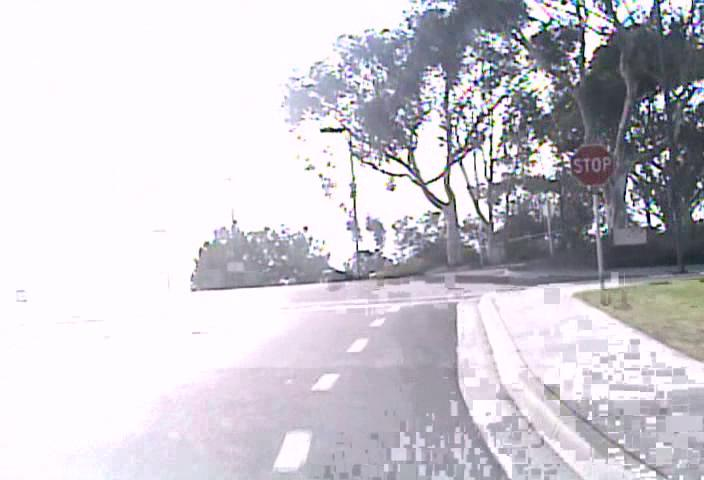stop: (569, 143, 614, 186)
